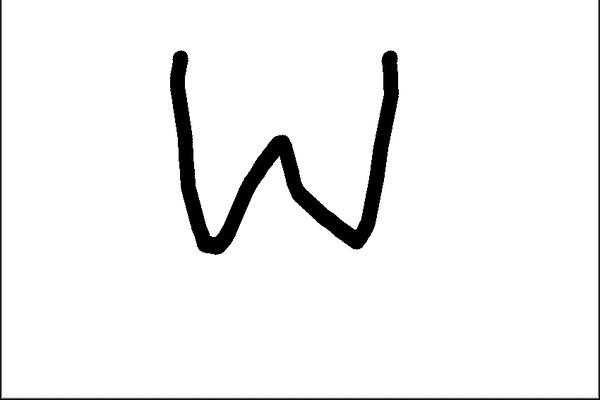w: (146, 32, 423, 274)
